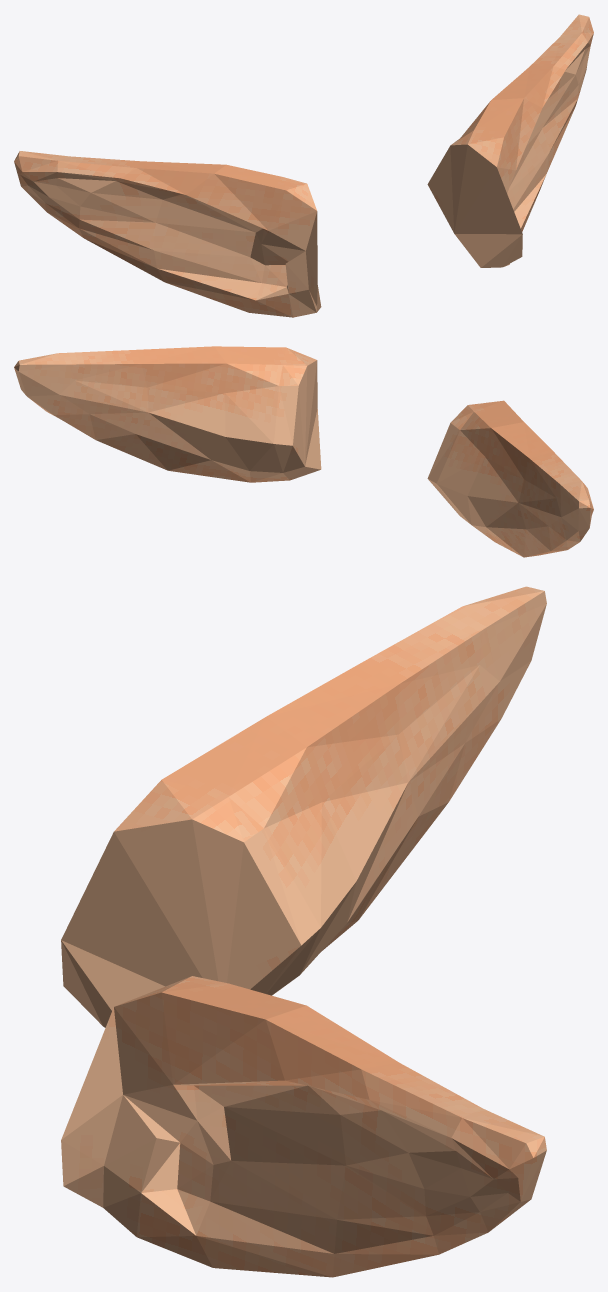
Rendered from YingletEars.fbx.
The picture shows the model from 3 angles, top to bottom: view 1: azimuth 30°, elevation 25°; view 2: azimuth 150°, elevation 25°; view 3: azimuth 270°, elevation 25°; orthographic projection. The views are drawn at different scales.
Visible parts, largest first — view 1: YingletEars; view 2: YingletEars; view 3: YingletEars.
Part boxes in pixels (x1=…): YingletEars: x1=14, y1=14, x2=593, y2=317; YingletEars: x1=14, y1=346, x2=593, y2=557; YingletEars: x1=61, y1=586, x2=546, y2=1277.
Size of the model in its own units: 0.387 by 0.0884 by 0.1413.
